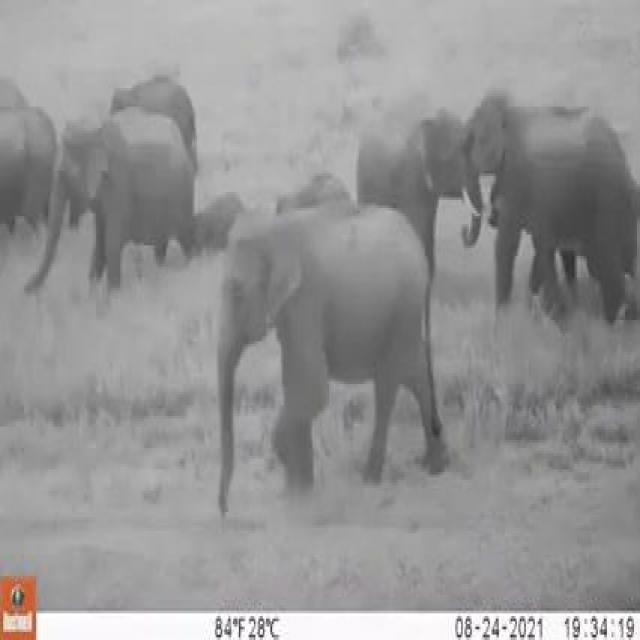Elephant: (214, 198, 442, 482), (467, 80, 640, 321), (27, 99, 202, 284), (357, 88, 486, 236)
